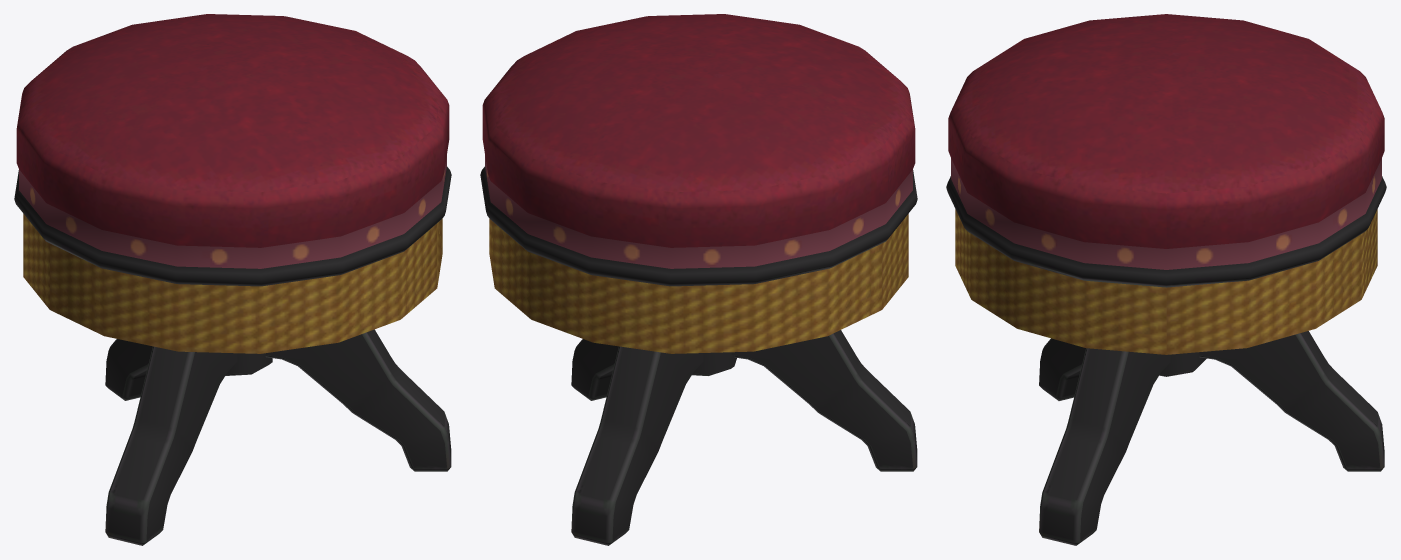
Rendered from FtrPianoStool.glb.
3 views of the same model, side by side, from view 1: azimuth 30°, elevation 25°; view 2: azimuth 150°, elevation 25°; view 3: azimuth 270°, elevation 25° (orthographic).
Parts seen in each view (by area): view 1: pCube11__mBody; view 2: pCube11__mBody; view 3: pCube11__mBody.
Part boxes in pixels (x1,y1,x2,y2): pCube11__mBody: [14, 14, 451, 545]; pCube11__mBody: [480, 14, 917, 545]; pCube11__mBody: [946, 14, 1386, 545].
Bounding box in the file's own units: 5.43 × 5.41 × 5.43.
Materials: 1 (1 with a texture image).
